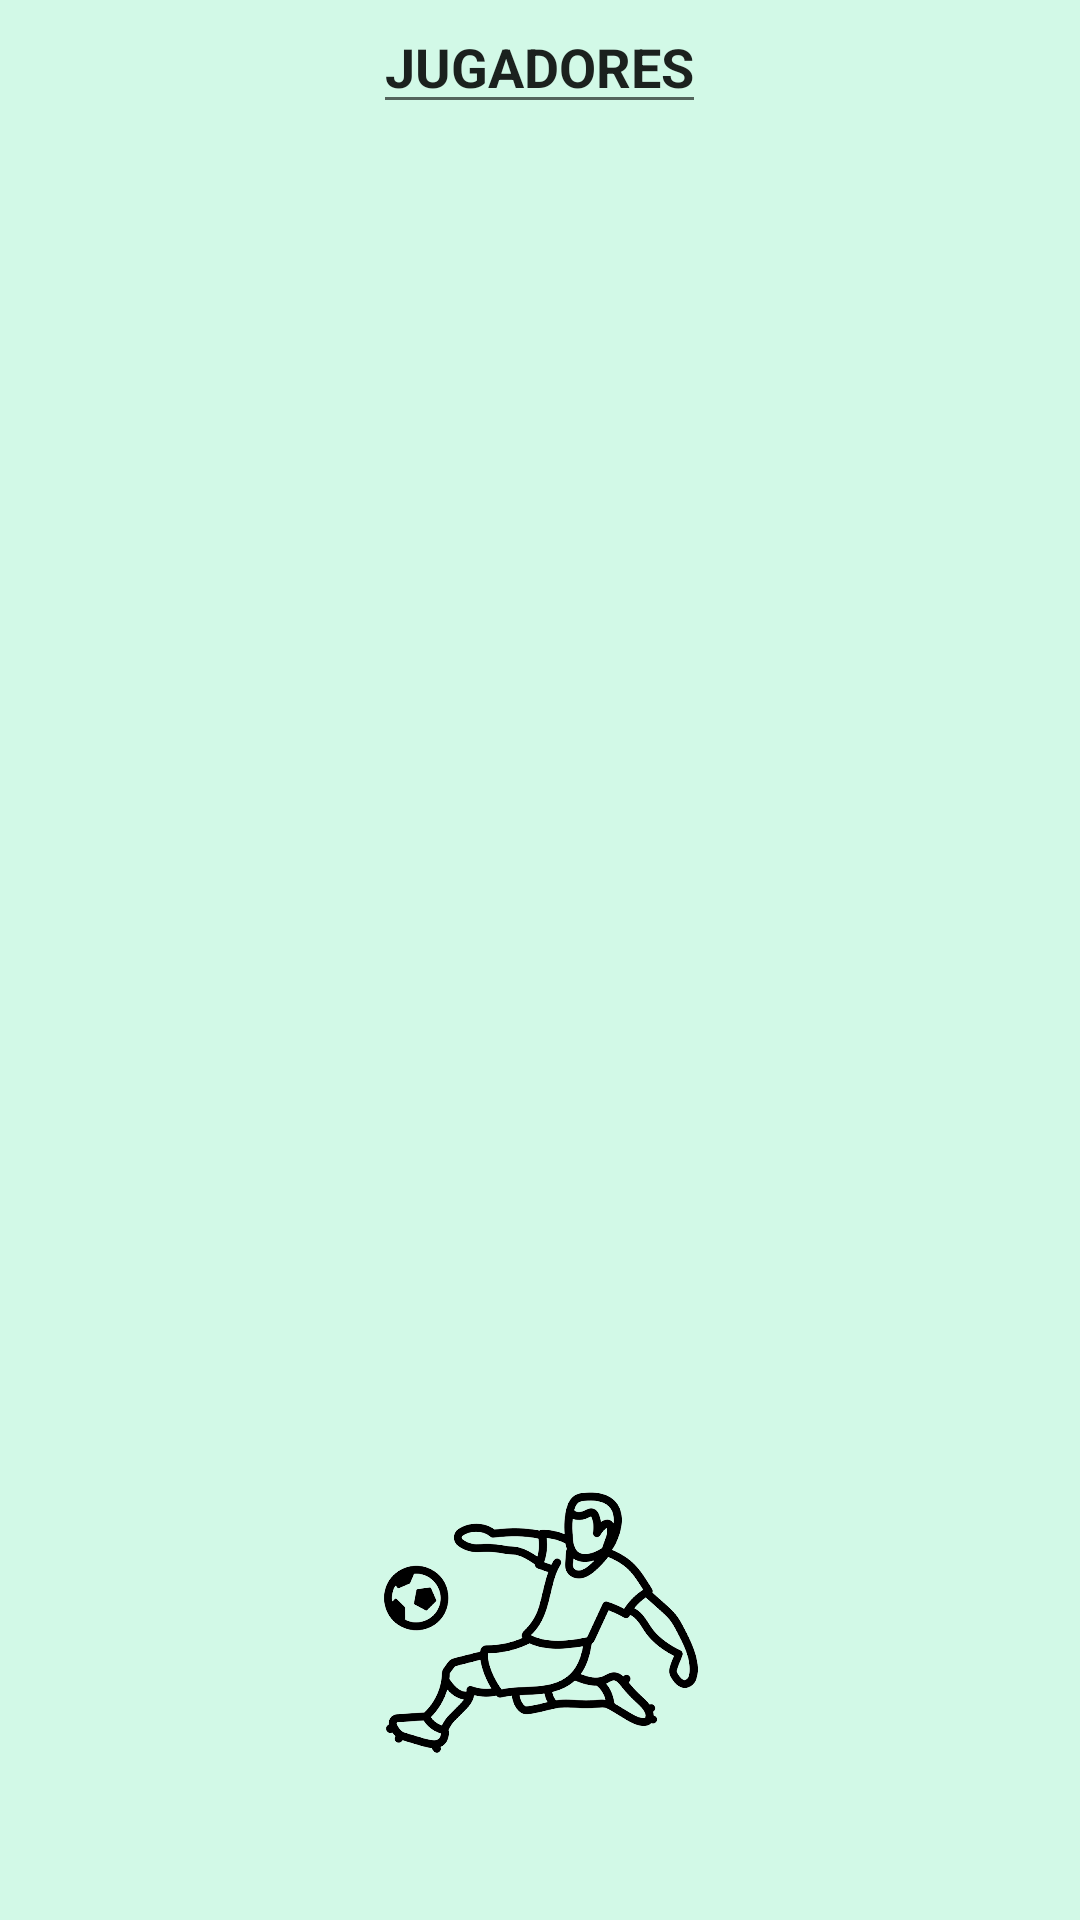

Icon click points for this 1080 x 1920 phone screenshot, format point (x, y):
jugador futbol: point (541, 1622)
